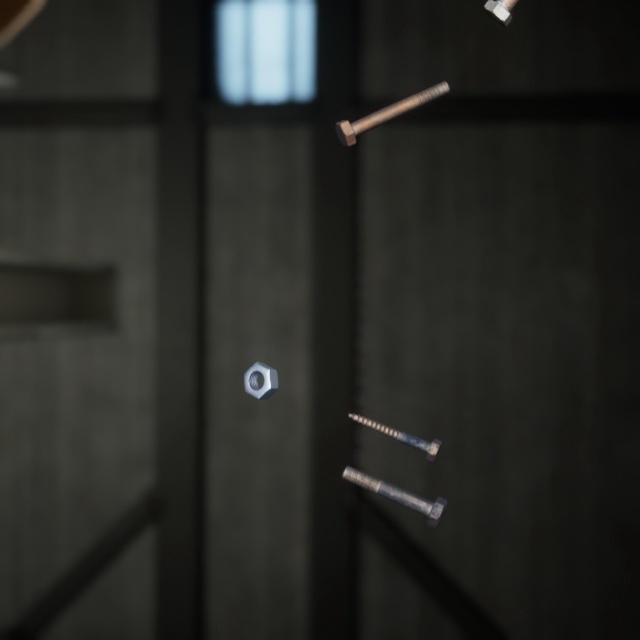bolt: (330, 65, 454, 139), (337, 441, 451, 511), (344, 389, 446, 447), (479, 0, 521, 27)
nut: (239, 338, 283, 384)
